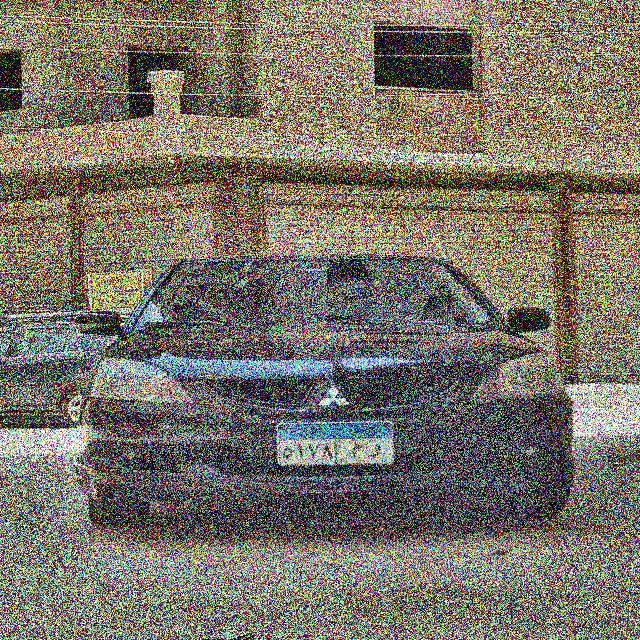License Plate: (273, 419, 396, 468)
